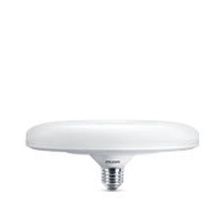light_bulb: (21, 110, 205, 191)
